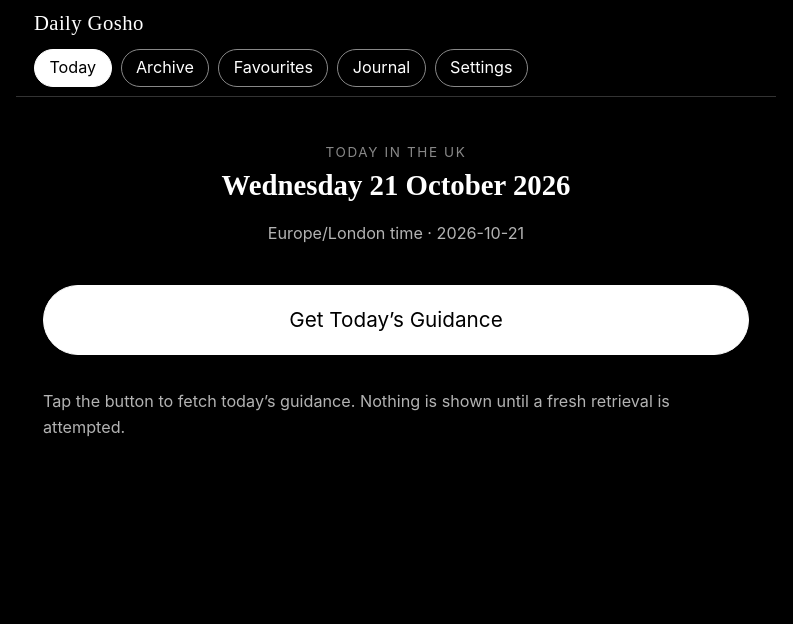
favourites, journal and settings › saves a journal entry on this device
Click the button "Journal" at [382, 68], box [337,49,426,87]
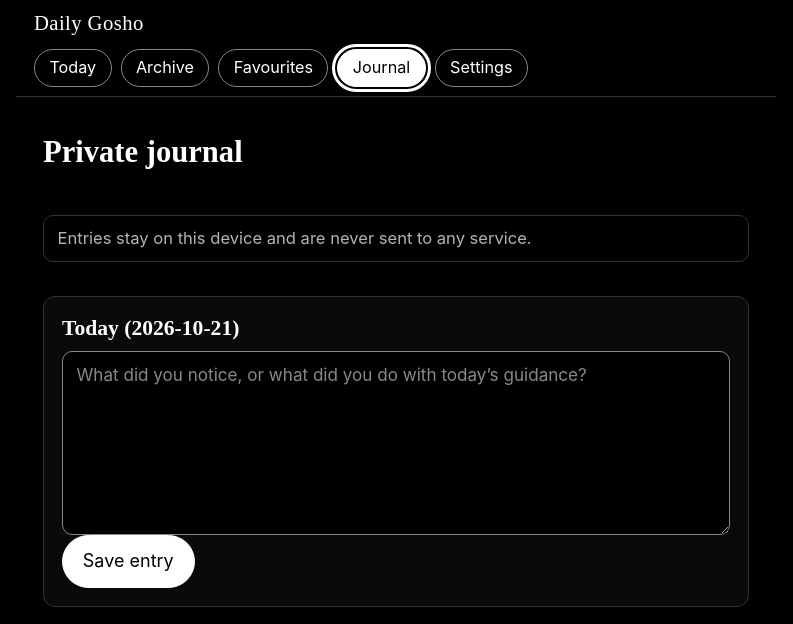
Type "A private note" into the text box named "Journal entry for today" at [396, 443], box [62,351,730,535]
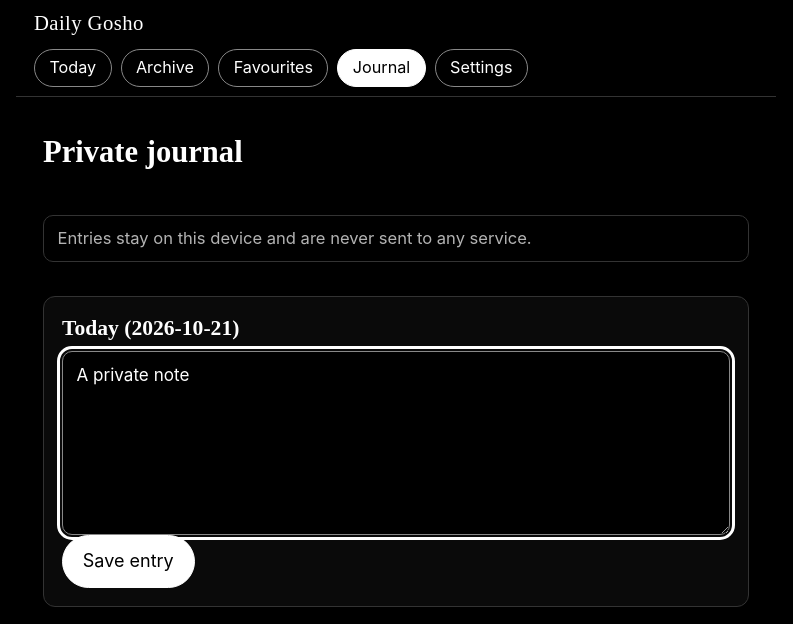
Click the button "Save entry" at [128, 561], box [62,535,194,588]
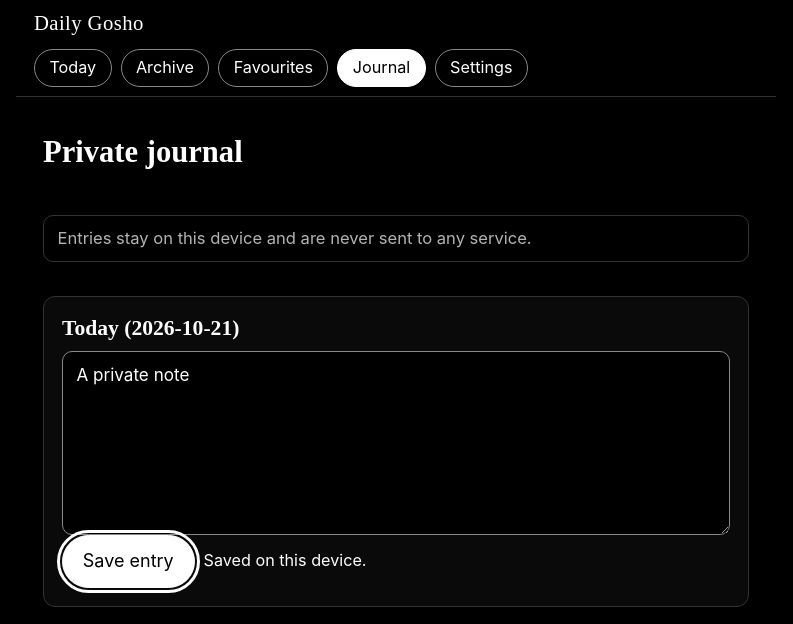
Expected: the text "Saved on this device." is shown, [204,548,366,574]
